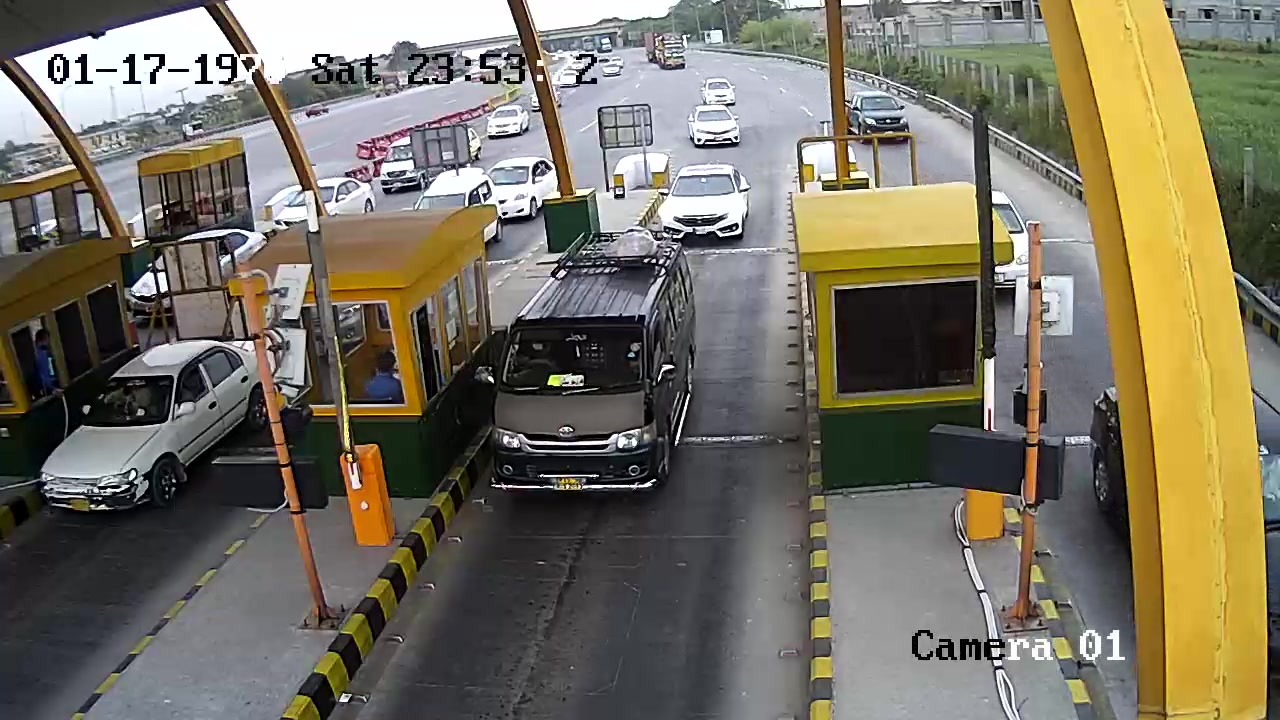F2: (494, 233, 690, 504)
